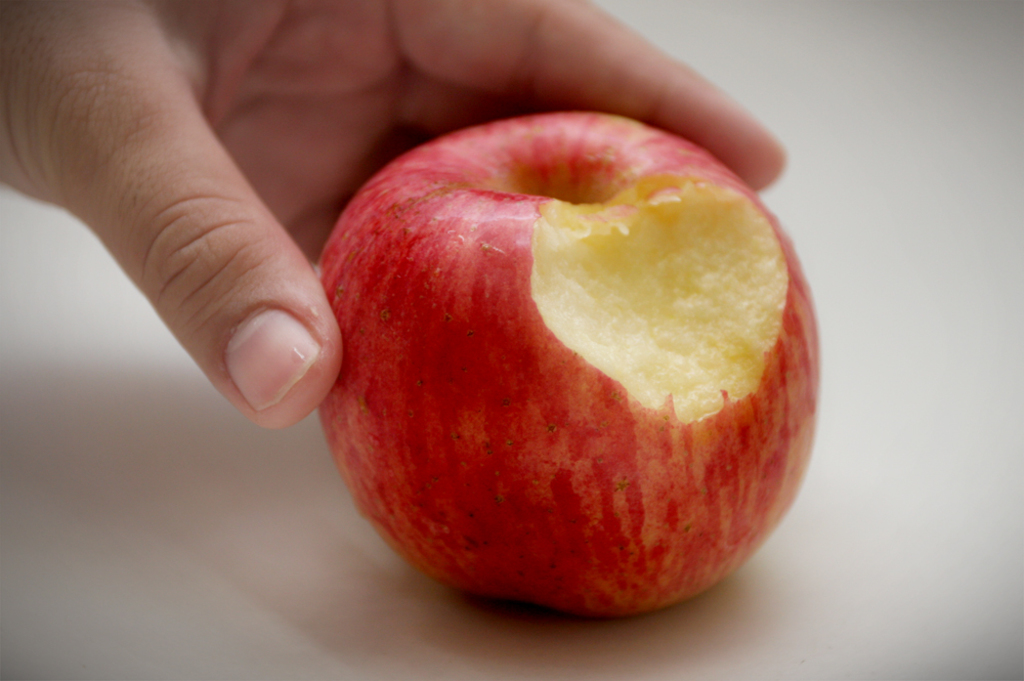Apple: (315, 92, 817, 644)
